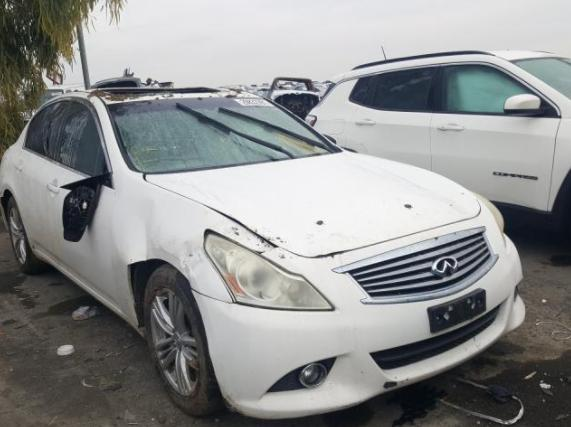Back-door: (13, 97, 75, 265)
Back-wheel: (6, 198, 42, 275)
Back-window: (26, 102, 67, 158)
Fender: (111, 172, 275, 323)
Front-bumper: (191, 197, 526, 419)
Front-door: (46, 97, 119, 310)
Front-wheel: (144, 263, 229, 417)
Front-window: (57, 102, 101, 175)
Grille: (348, 234, 492, 297)
Headlight: (204, 231, 335, 311), (476, 193, 505, 234)
Hood: (144, 151, 480, 257)
Mirror: (66, 158, 109, 185)
Quarter-panel: (0, 140, 23, 197)
Rocker-panel: (33, 247, 143, 337)
Roof: (75, 87, 264, 105)
Windshield: (105, 98, 342, 173)
